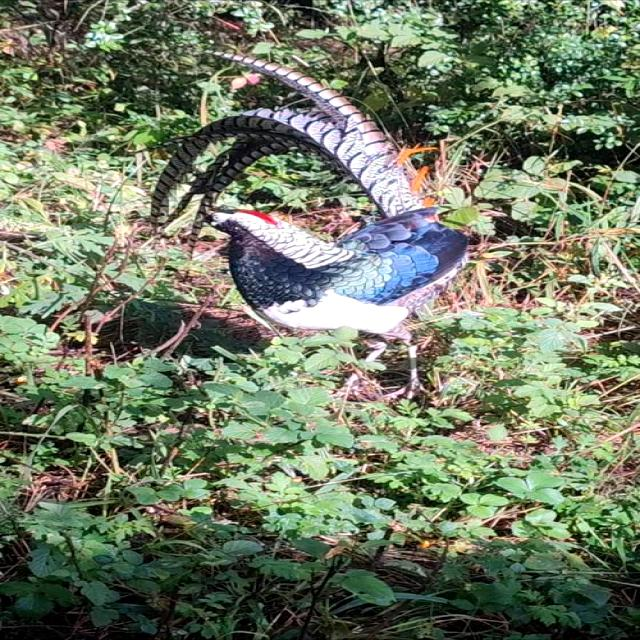Chrysolophus amherstiae: (151, 54, 420, 225)
